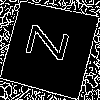Z: (24, 23, 80, 65)
